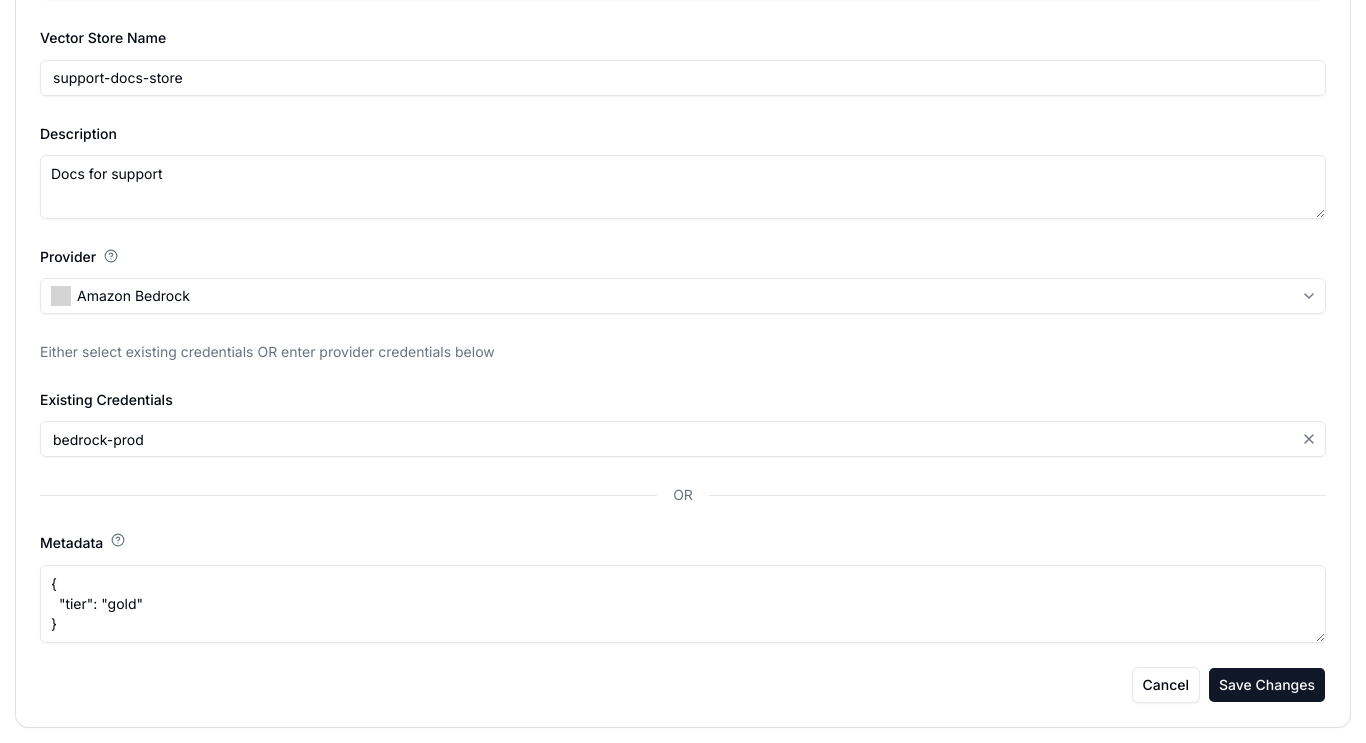
Scenario: VectorStoreInfoView save payload › keeps the required-field message that blocks saving without a vector store id
(page scrolled)
Expected: the field showing "support-docs-store" is shown, [40, 60, 1326, 96]
Click the button "Save Changes" at (1267, 684), box [1208, 666, 1326, 702]
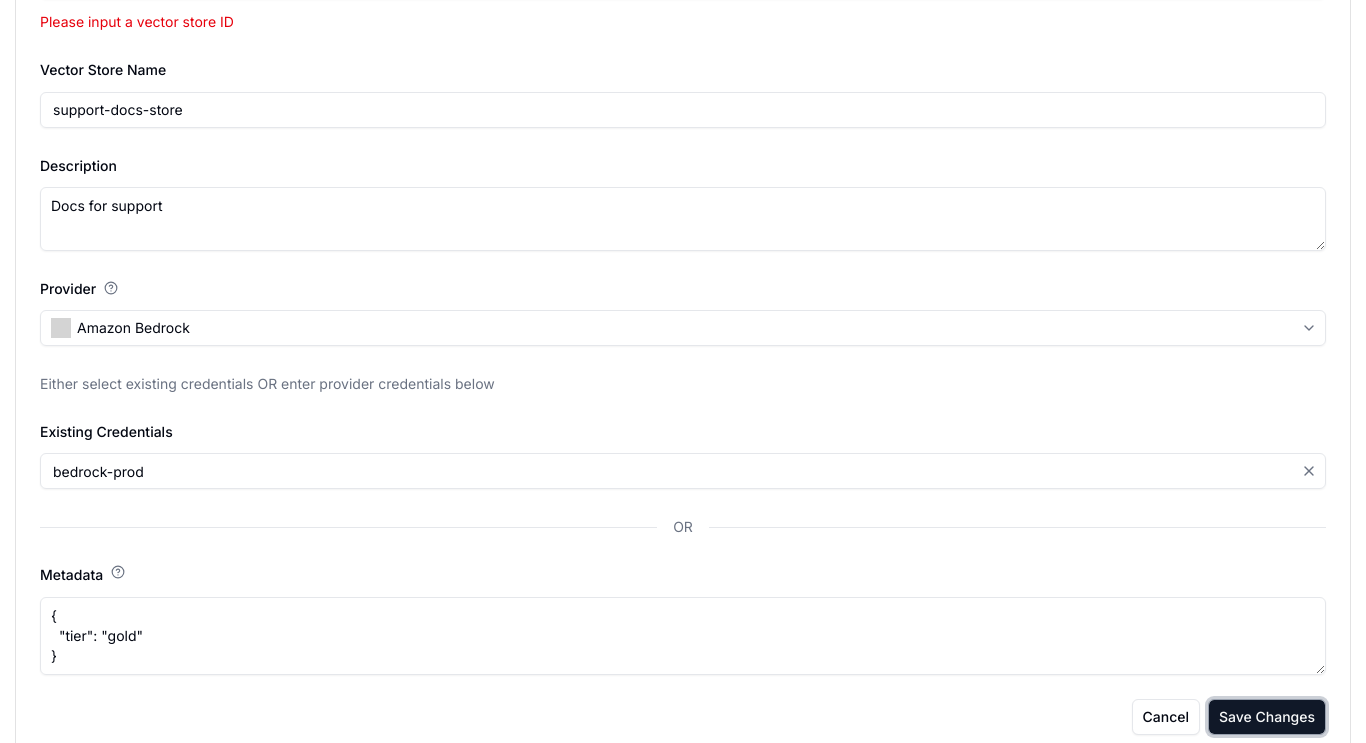
Now the text "Please input a vector store ID" is shown, box [40, 13, 234, 30]
